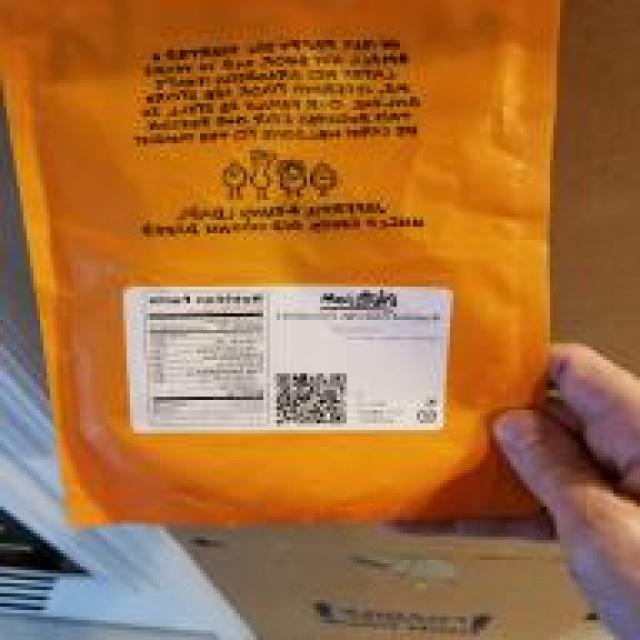QR_CODE: (260, 356, 360, 432)
